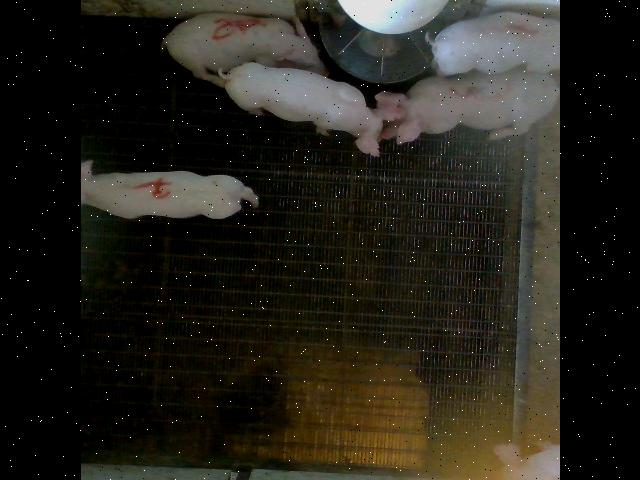pig-1: (425, 11, 559, 75)
pig-3: (375, 68, 558, 144)
pig-4: (80, 161, 257, 219)
pig-5: (160, 14, 326, 88)
